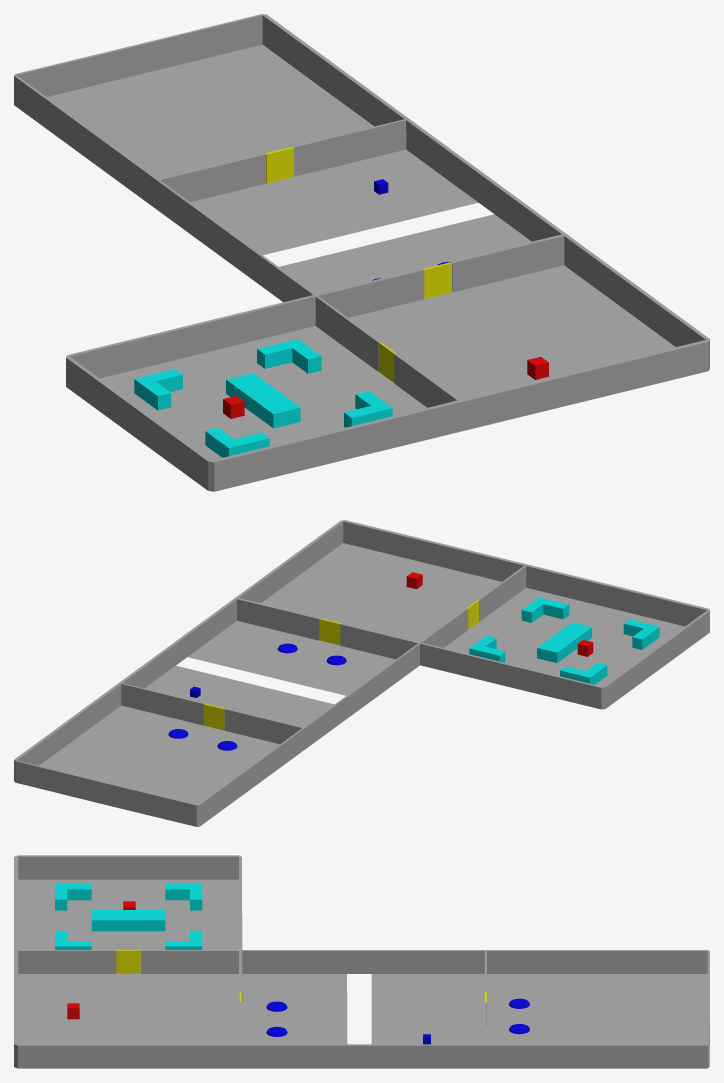
File: SM_demo_mapp_complete.fbx
3 views of the same model, one above another, from view 1: azimuth 30°, elevation 25°; view 2: azimuth 150°, elevation 25°; view 3: azimuth 270°, elevation 25° (orthographic). The views are drawn at different scales.
Visible parts, largest first — view 1: SM_Rooms, SM_Door1, SM_Door4; view 2: SM_Rooms, SM_Door1, SM_Door4; view 3: SM_Rooms, SM_Door3.
Part boxes in pixels (x1,y1,x2,y2): SM_Rooms: [14, 14, 709, 491]; SM_Door1: [265, 146, 293, 183]; SM_Door4: [423, 262, 451, 298]; SM_Rooms: [14, 520, 709, 826]; SM_Door1: [203, 703, 224, 730]; SM_Door4: [320, 618, 340, 645]; SM_Rooms: [14, 855, 709, 1068]; SM_Door3: [116, 950, 140, 973].
Bounding box in the file's own units: 36.74 × 2.06 × 56.76.
